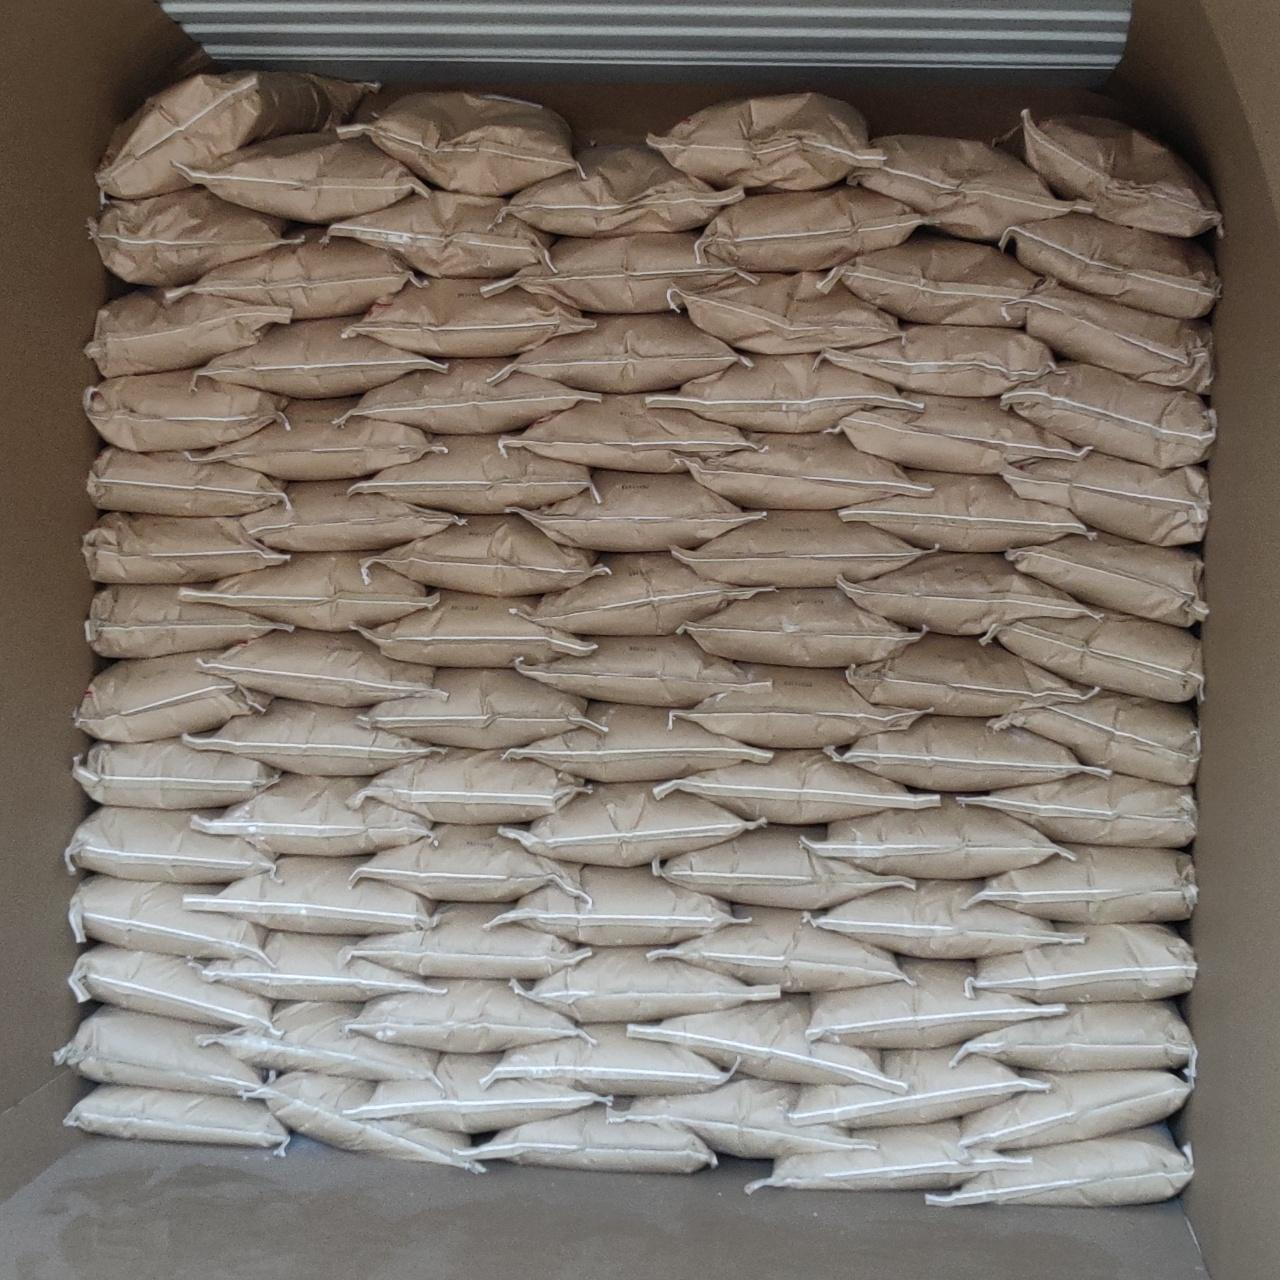sack: (98, 72, 370, 198), (1000, 110, 1220, 236), (848, 134, 1072, 242), (338, 92, 574, 194), (628, 996, 894, 1086), (246, 1072, 482, 1172), (176, 132, 428, 222), (648, 92, 878, 190), (1006, 212, 1218, 318), (808, 958, 1058, 1046), (650, 906, 908, 990), (1002, 362, 1214, 464), (176, 228, 416, 318), (480, 232, 756, 310), (928, 1124, 1190, 1206), (504, 142, 742, 232), (810, 880, 1082, 958), (656, 826, 912, 908), (1026, 280, 1212, 390), (650, 354, 916, 430), (610, 1078, 862, 1158), (656, 750, 936, 822), (830, 716, 1102, 790), (984, 608, 1202, 700), (838, 554, 1088, 634), (360, 1054, 610, 1134), (814, 236, 1036, 326), (810, 800, 1066, 878), (788, 1048, 1044, 1126), (840, 470, 1088, 550), (508, 704, 768, 780), (198, 318, 444, 398), (674, 666, 920, 746), (90, 188, 294, 284), (504, 394, 754, 472), (514, 948, 776, 1022), (848, 634, 1090, 714), (526, 554, 768, 634), (198, 1002, 438, 1082), (186, 856, 432, 934), (834, 394, 1086, 470), (184, 700, 442, 774), (748, 1122, 1028, 1190), (512, 784, 756, 862), (184, 554, 434, 630), (698, 186, 924, 270), (1000, 450, 1206, 542), (194, 774, 430, 854), (522, 470, 758, 550), (500, 314, 748, 390), (990, 692, 1198, 782), (328, 192, 550, 276), (674, 512, 930, 584), (682, 432, 922, 508), (206, 398, 432, 478), (364, 670, 594, 748), (502, 866, 738, 942), (356, 436, 596, 510), (70, 944, 276, 1030), (56, 1008, 262, 1094), (1008, 532, 1204, 622), (346, 360, 598, 430), (358, 280, 590, 356), (958, 772, 1196, 846), (348, 904, 586, 978), (86, 288, 290, 374), (352, 824, 582, 900), (972, 924, 1196, 1002), (352, 748, 588, 822), (962, 1072, 1190, 1148), (356, 592, 590, 666), (516, 634, 756, 706), (672, 274, 898, 350), (974, 844, 1194, 922), (680, 590, 918, 662), (76, 652, 268, 740), (468, 1104, 716, 1172), (206, 630, 440, 702), (820, 324, 1054, 396), (490, 1024, 730, 1094), (378, 516, 598, 592), (958, 1000, 1194, 1070), (202, 932, 444, 998), (70, 876, 264, 958), (354, 980, 574, 1052), (240, 480, 462, 550), (66, 808, 274, 882), (84, 370, 286, 446), (64, 1084, 286, 1152), (86, 586, 292, 656), (74, 738, 278, 806), (84, 514, 284, 582), (88, 448, 284, 514)
